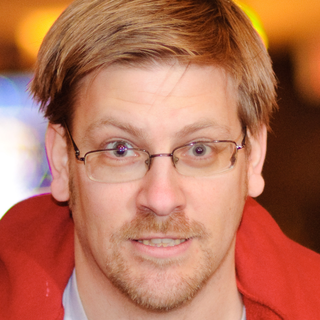eye: (94, 134, 142, 164), (178, 136, 219, 162)
